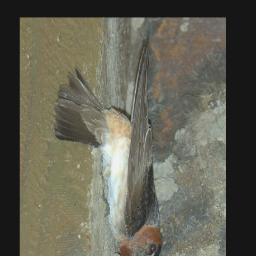Swallow: (54, 33, 164, 256)
